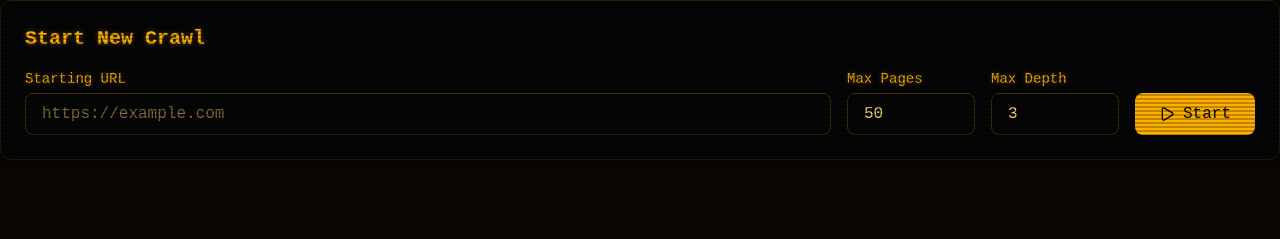
CrawlForm component › shows error if submission fails
This screenshot has width=1280, height=239.
Type "https://test.com" into the field with placeholder "https://example.com" at (428, 114), box [25, 93, 831, 135]
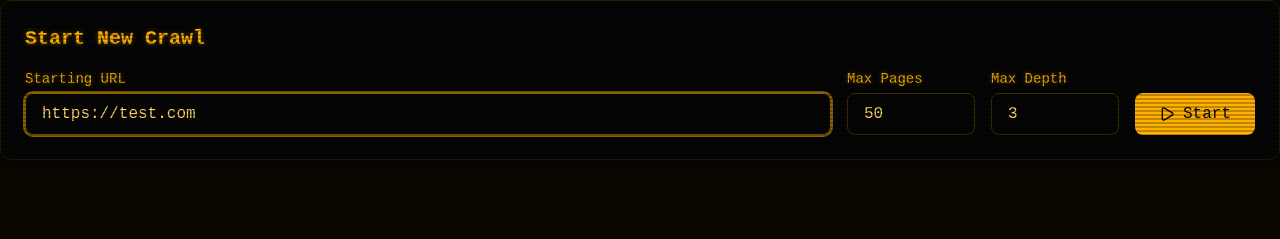
Click the button "Start" at (1195, 114), box [1135, 93, 1255, 135]
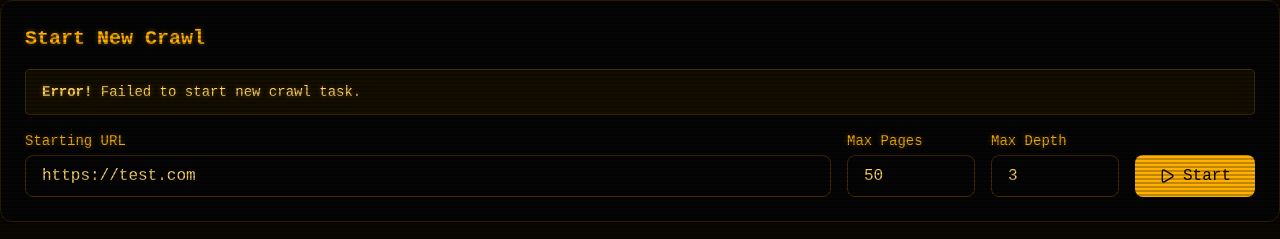
Expected: the text "Error! Failed to start new crawl task." is shown, [25, 69, 1255, 115]
